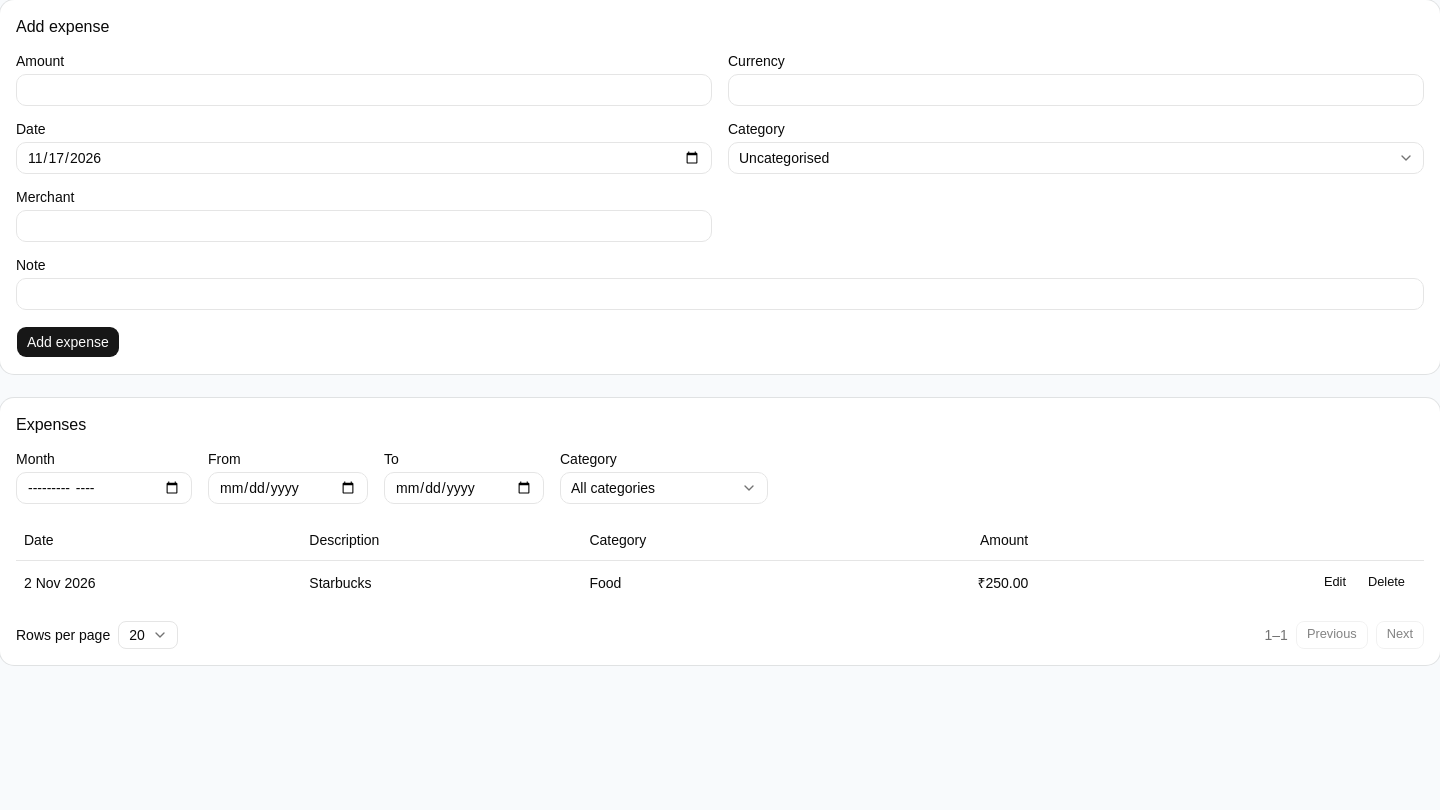
Test: Delete opens a dialog naming the expense and sends nothing yet
The image size is (1440, 810).
Click the button with aria-label "Delete Starbucks".
click(1386, 582)  # box [1357,568,1416,596]
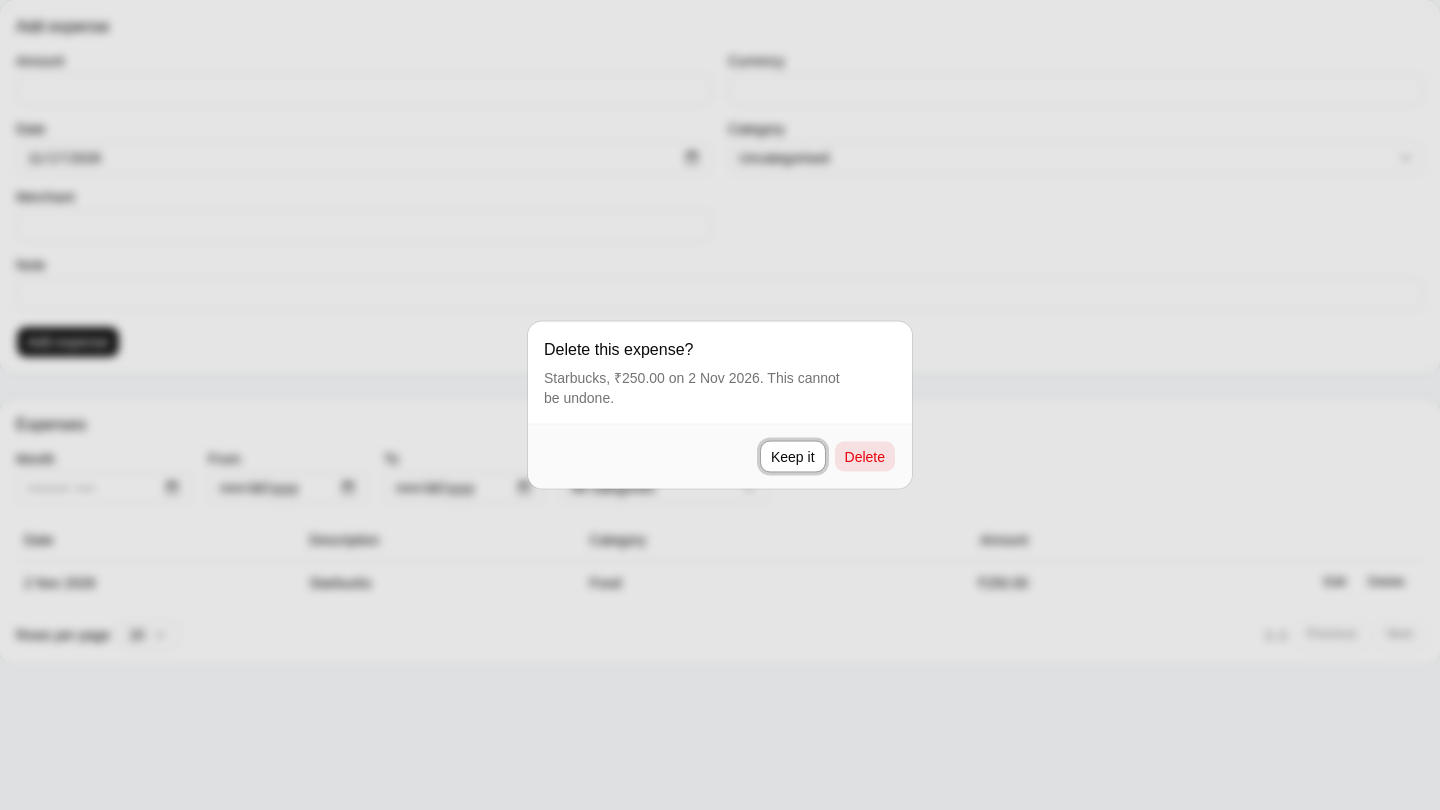
Check: the heading "Delete this expense?" is shown, box [544,338,693,362]
Check: the text "Starbucks, ₹250.00 on 2 Nov 2026. This cannot be undone." is shown, box [544,370,840,406]
